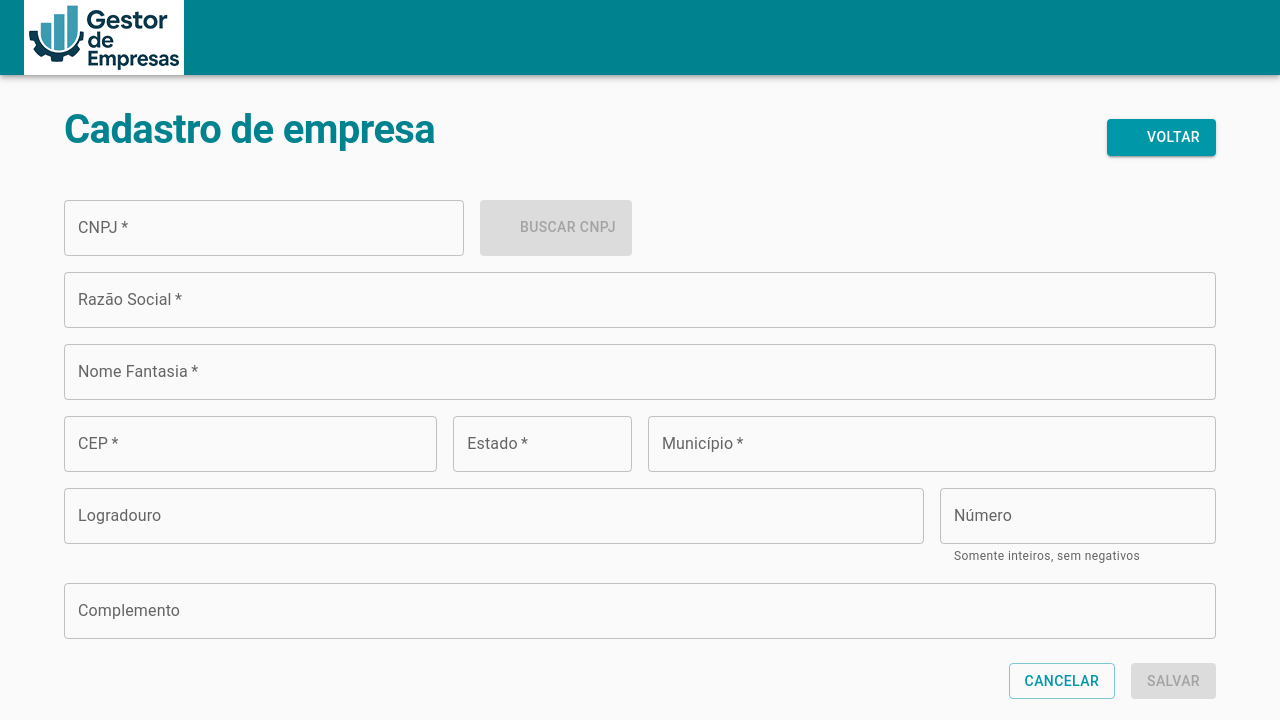
Cadastro de Empresa com Busca de CNPJ › deve mostrar erro ao buscar CNPJ inválido
Type "34028316000103" into the field labelled "CNPJ *" at (264, 228), box [64,200,464,256]
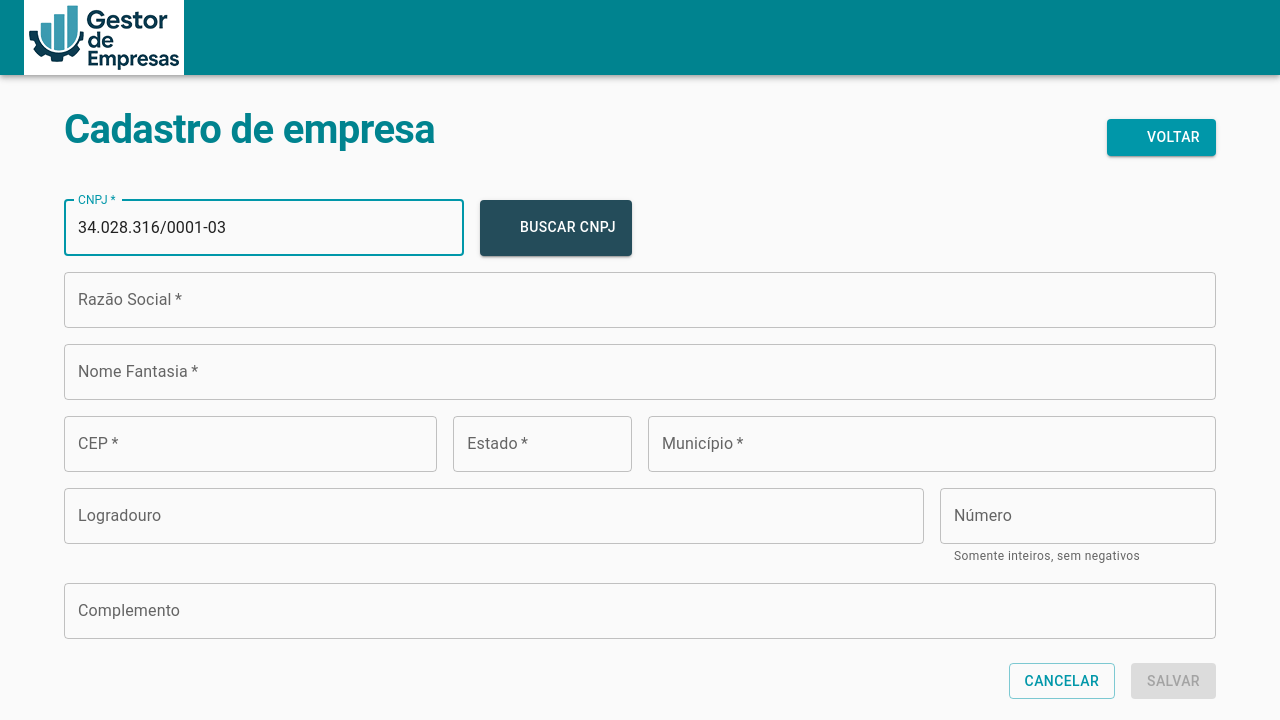
Expected: the text "Buscar CNPJ" is enabled
Now the field labelled "CNPJ *" holds "34.028.316/0001-03", box [64,200,464,256]
Click the button "Buscar CNPJ" at (556, 228), box [480,200,632,256]
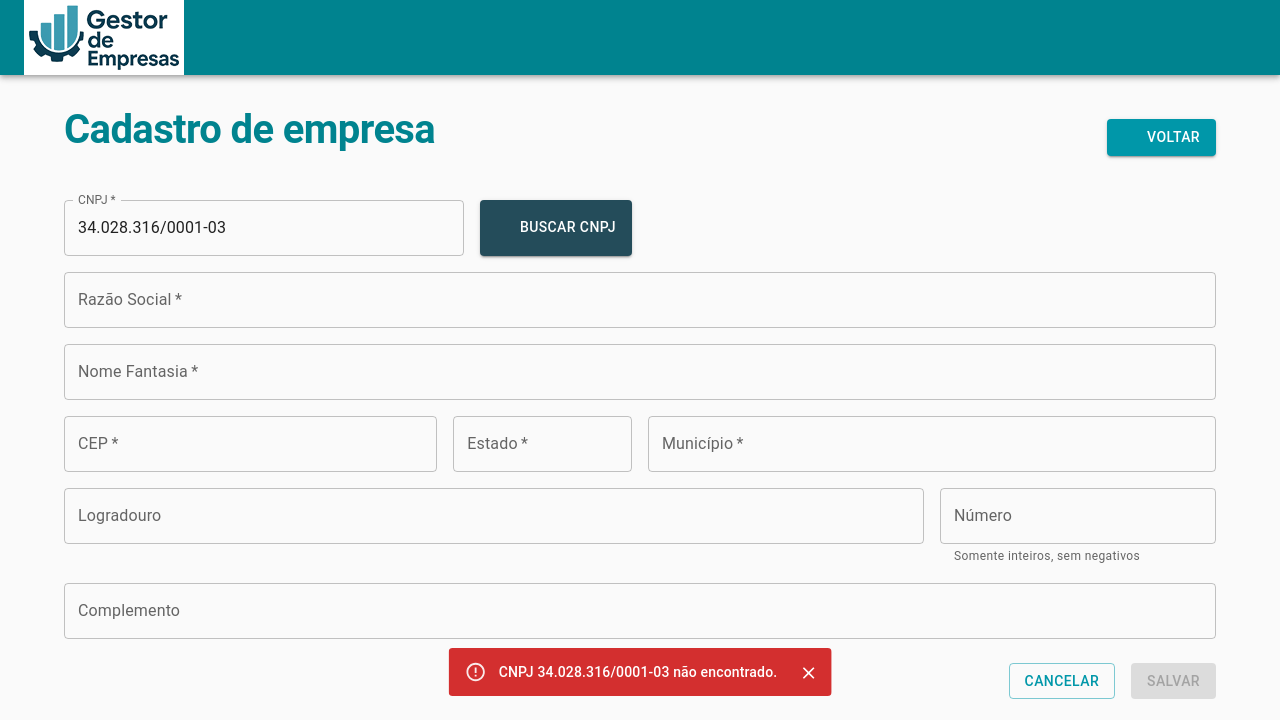
Now the text "CNPJ 34.028.316/0001-03 não encontrado." is shown, box [499,664,777,680]
